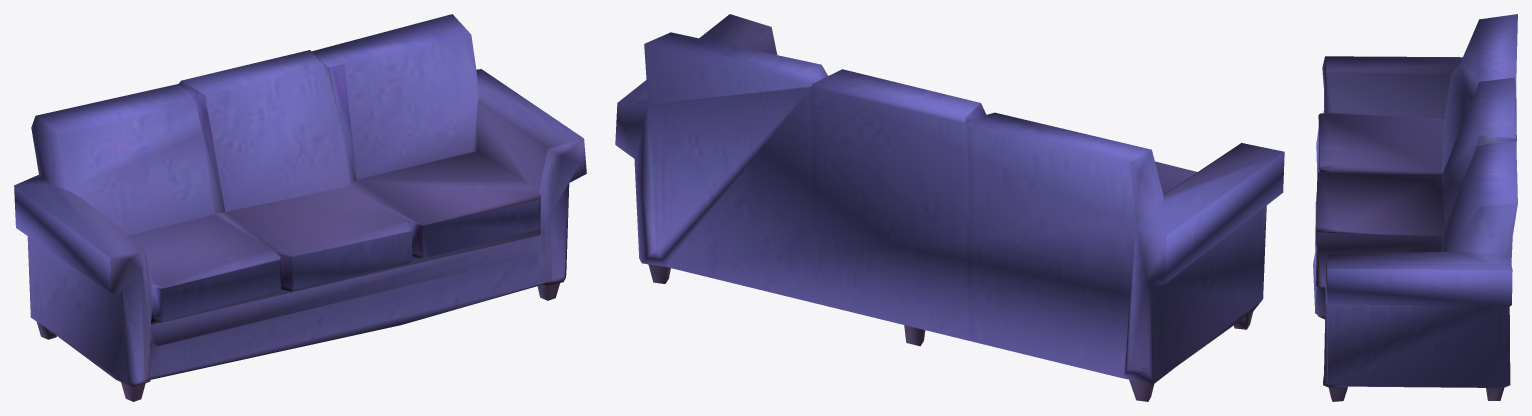
Rendered from model.progressive.glb.
The picture shows the model from 3 angles, left to right: view 1: azimuth 30°, elevation 25°; view 2: azimuth 150°, elevation 25°; view 3: azimuth 270°, elevation 25°; orthographic projection. The views are drawn at different scales.
Visible parts, largest first — view 1: material; view 2: material; view 3: material.
Part boxes in pixels (<box>): material: <box>14,14,586,401</box>; material: <box>615,14,1284,401</box>; material: <box>1313,14,1517,401</box>.
Bounding box in the file's own units: 1.83 × 0.7831 × 0.7323.
1 material, 1 textured.
